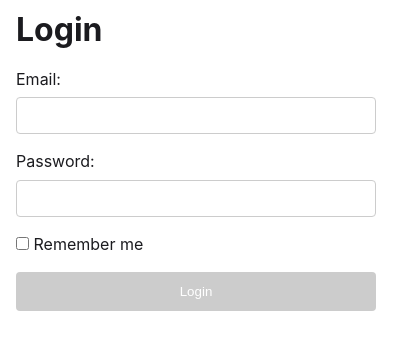
Test: LoginFormComponent › Email Validation › should show error when email is invalid
Type "invalidemail" into the field with test id "email-input". click: (196, 116)
box: 16,97 -> 376,134
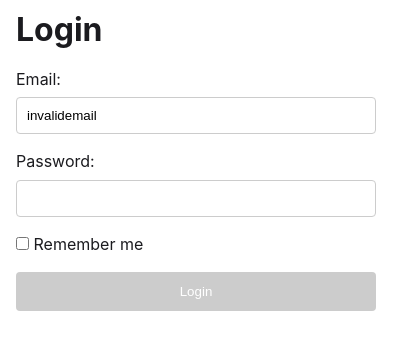
Leave the field with test id "email-input", box 16,97 -> 376,134
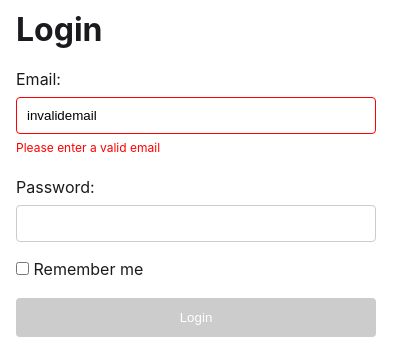
expect the text with test id "email-error" shows "valid email": met, box 16,140 -> 160,155
